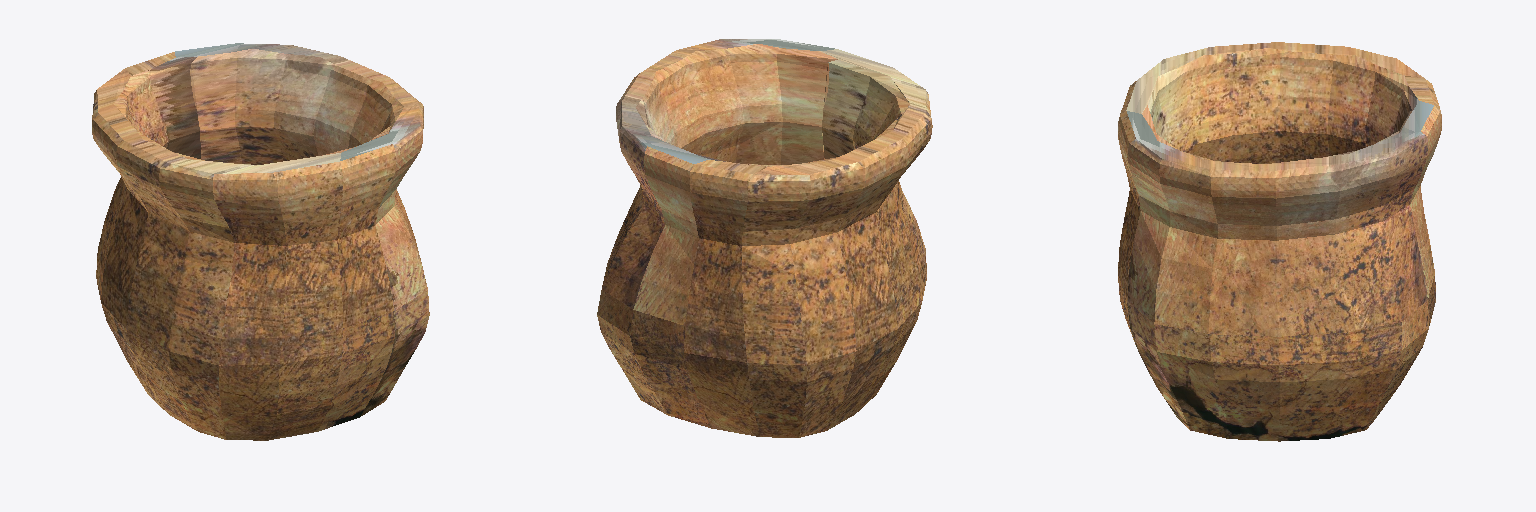
3 renders of one model, left to right at view 1: azimuth 30°, elevation 25°; view 2: azimuth 150°, elevation 25°; view 3: azimuth 270°, elevation 25°, orthographic.
Parts seen in each view (by area): view 1: Cylinder.001_Cylinder.002, Cylinder.002_Cylinder.004, Cylinder; view 2: Cylinder.001_Cylinder.002, Cylinder.002_Cylinder.004, Cylinder; view 3: Cylinder.002_Cylinder.004, Cylinder.001_Cylinder.002, Cylinder.
Boxes of the visible parts, <box> form: Cylinder.001_Cylinder.002: <box>92,52,342,440</box>; Cylinder.002_Cylinder.004: <box>175,43,427,327</box>; Cylinder: <box>317,290,429,431</box>; Cylinder.001_Cylinder.002: <box>684,49,932,437</box>; Cylinder.002_Cylinder.004: <box>602,39,837,325</box>; Cylinder: <box>597,290,711,428</box>; Cylinder.002_Cylinder.004: <box>1118,101,1441,336</box>; Cylinder.001_Cylinder.002: <box>1120,42,1439,163</box>; Cylinder: <box>1118,276,1435,441</box>.
Size of the model in its own units: 0.4508 by 0.4613 by 0.4526.
4 materials, 2 textured.